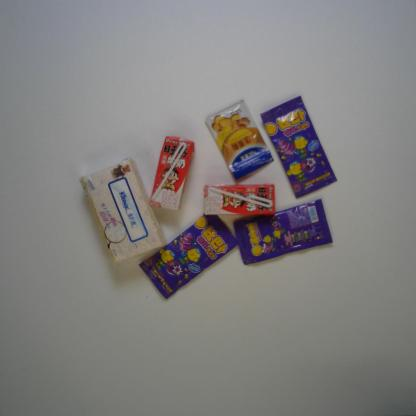Candy: (138, 211, 240, 299), (260, 95, 338, 198), (233, 198, 335, 264)
Milk: (148, 135, 194, 211), (204, 183, 276, 216)
Seasoner: (204, 99, 274, 180)
Tissue: (78, 158, 166, 266)
